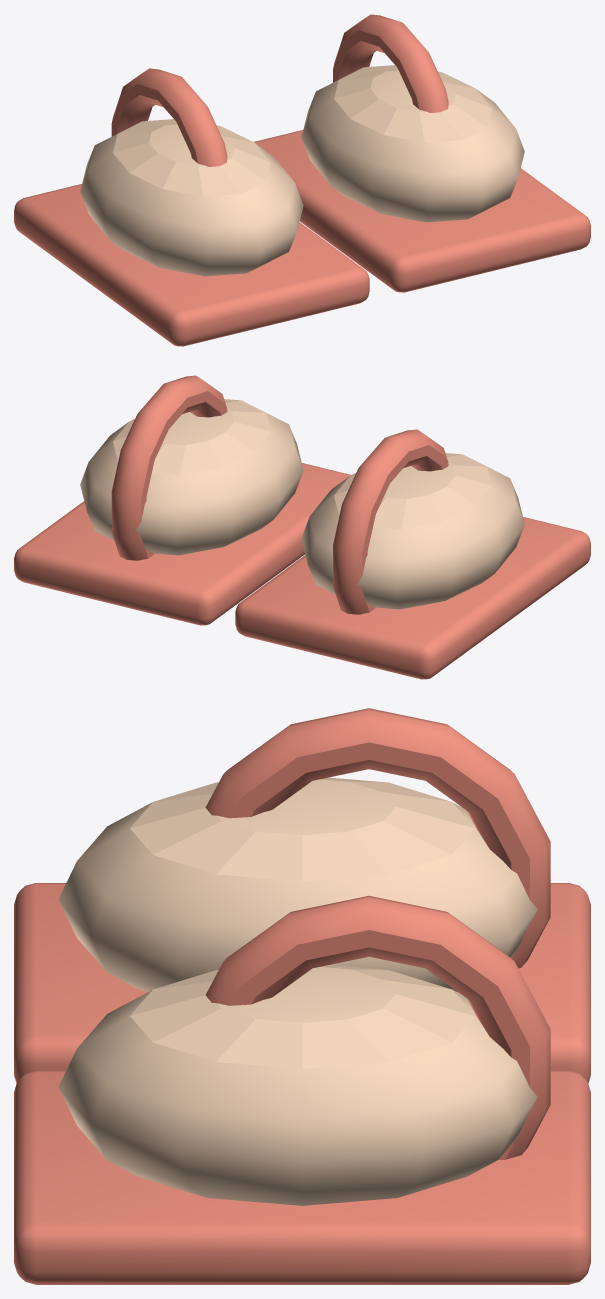
The model's file is Shoes_Sandals.fbx.
The picture shows the model from 3 angles, top to bottom: view 1: azimuth 30°, elevation 25°; view 2: azimuth 150°, elevation 25°; view 3: azimuth 270°, elevation 25°; orthographic projection. The views are drawn at different scales.
Visible parts, largest first — view 1: Foot.001, Foot, Sandal_Sole.001, Sandal_Sole, Sandal_Strap.001, Sandal_Strap; view 2: Sandal_Sole.001, Foot.001, Foot, Sandal_Sole, Sandal_Strap, Sandal_Strap.001; view 3: Foot, Sandal_Sole, Foot.001, Sandal_Strap, Sandal_Strap.001, Sandal_Sole.001.
Part boxes in pixels (x1=…): Foot.001: x1=80, y1=119, x2=303, y2=276; Foot: x1=301, y1=65, x2=524, y2=222; Sandal_Sole.001: x1=14, y1=184, x2=369, y2=346; Sandal_Sole: x1=254, y1=130, x2=590, y2=292; Sandal_Strap.001: x1=111, y1=68, x2=227, y2=166; Sandal_Strap: x1=333, y1=14, x2=448, y2=112; Sandal_Sole.001: x1=235, y1=517, x2=590, y2=679; Foot.001: x1=301, y1=453, x2=524, y2=609; Foot: x1=80, y1=399, x2=303, y2=555; Sandal_Sole: x1=14, y1=463, x2=350, y2=625; Sandal_Strap: x1=111, y1=375, x2=227, y2=560; Sandal_Strap.001: x1=333, y1=429, x2=448, y2=614; Foot: x1=58, y1=965, x2=537, y2=1205; Sandal_Sole: x1=14, y1=1070, x2=590, y2=1284; Foot.001: x1=58, y1=777, x2=537, y2=991; Sandal_Strap: x1=205, y1=895, x2=550, y2=1159; Sandal_Strap.001: x1=205, y1=708, x2=550, y2=968; Sandal_Sole.001: x1=14, y1=883, x2=590, y2=1083.
Bounding box in the file's own units: 38 × 16.8 × 26.
